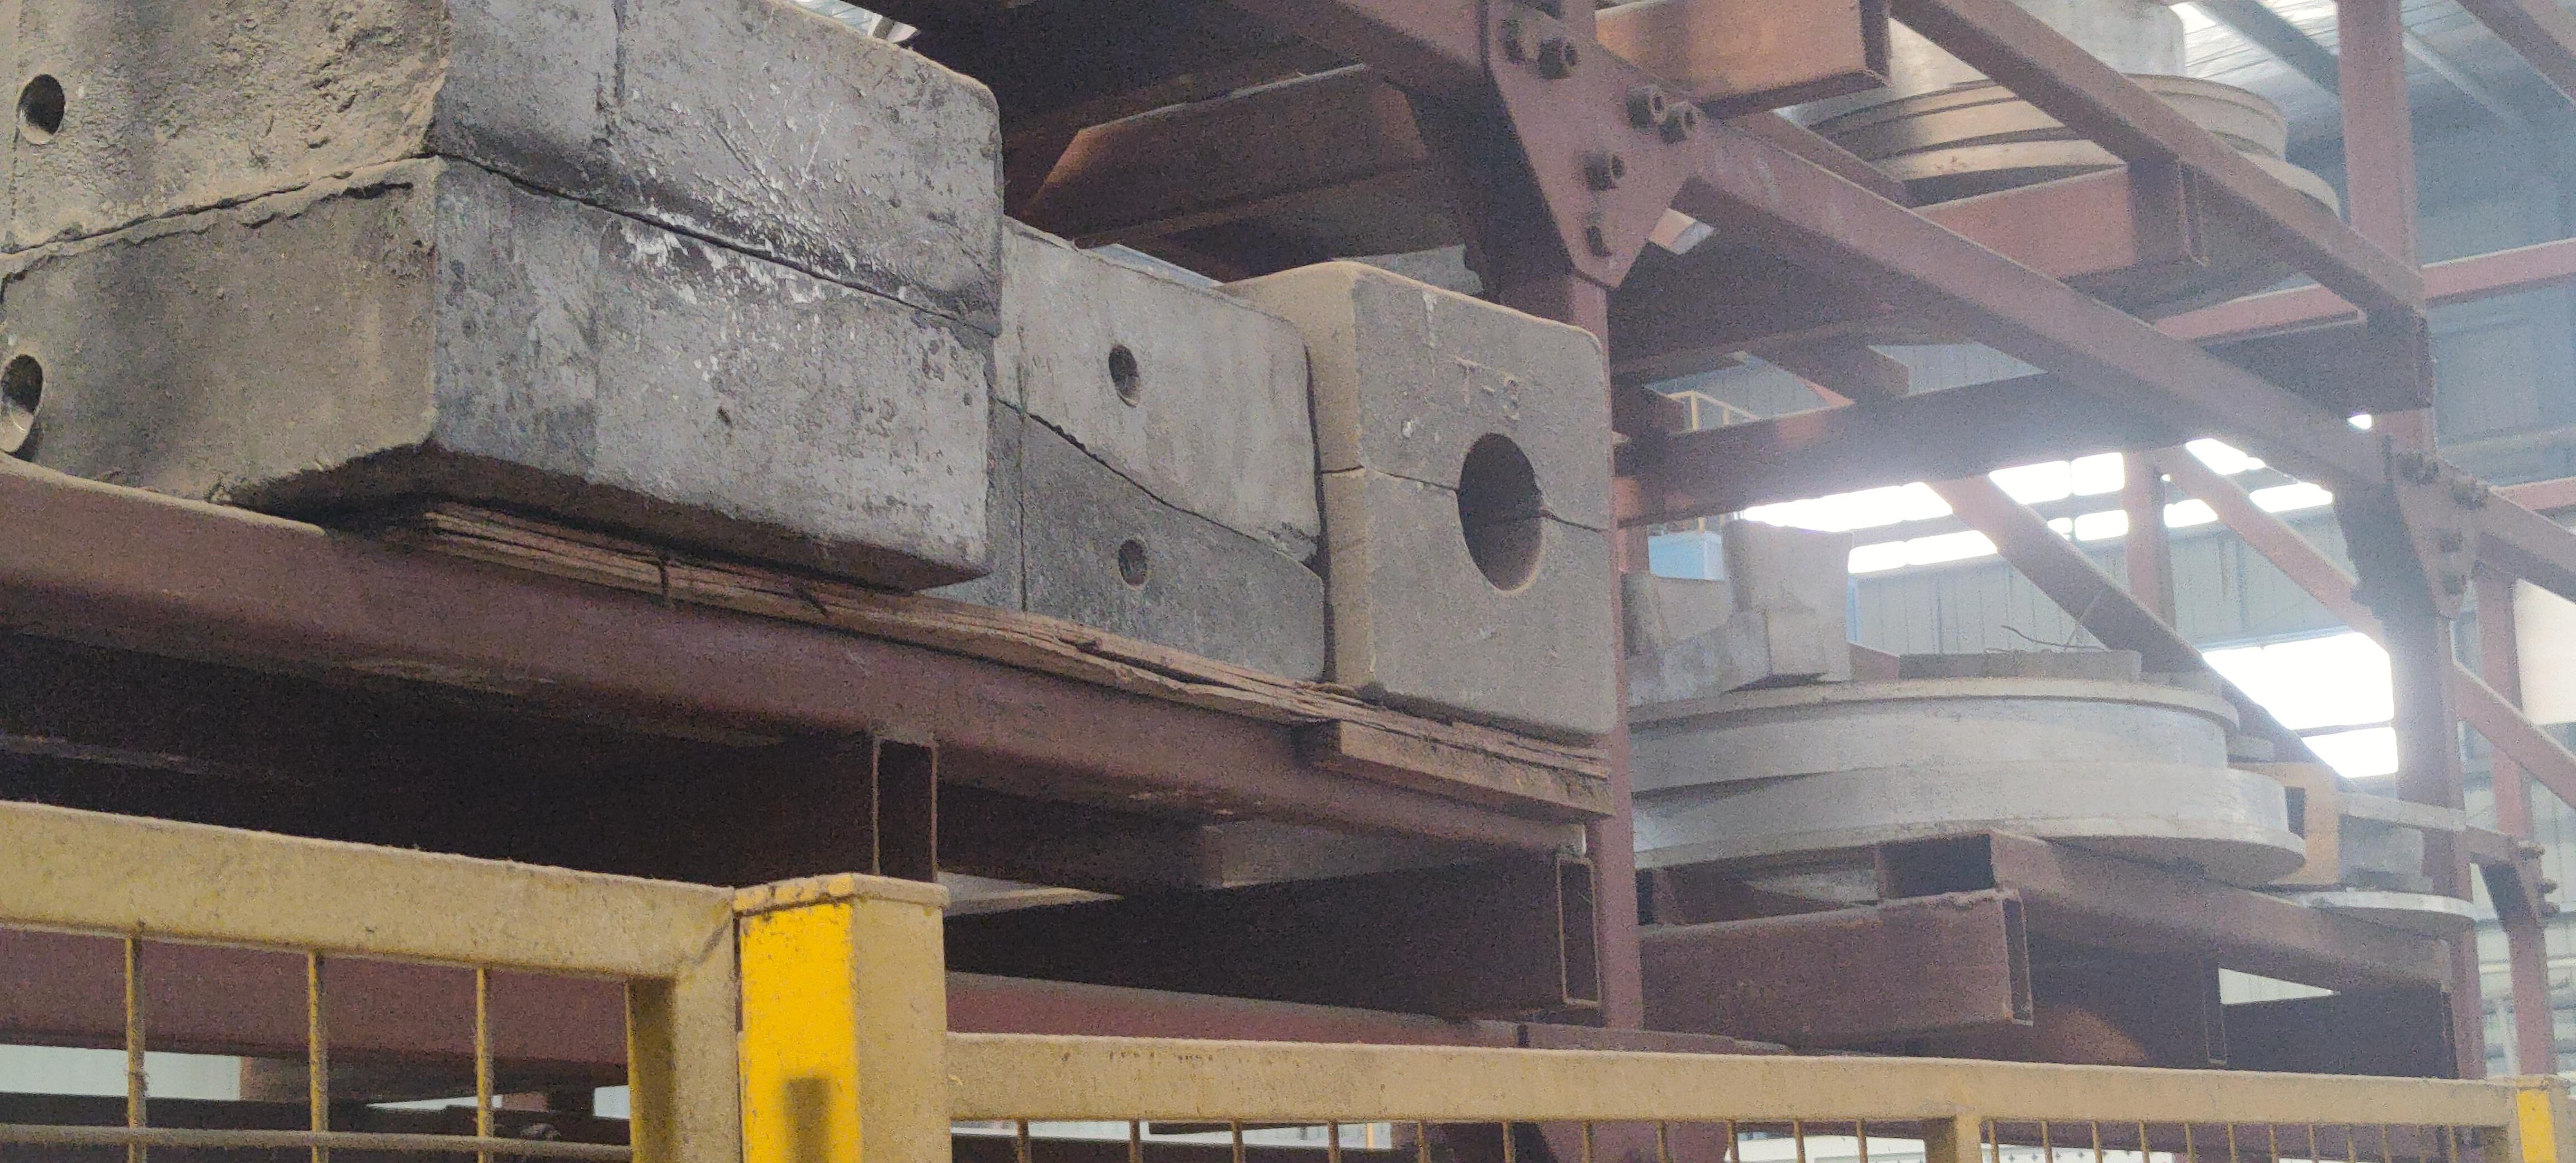pouring hole: (1456, 432, 1544, 596)
